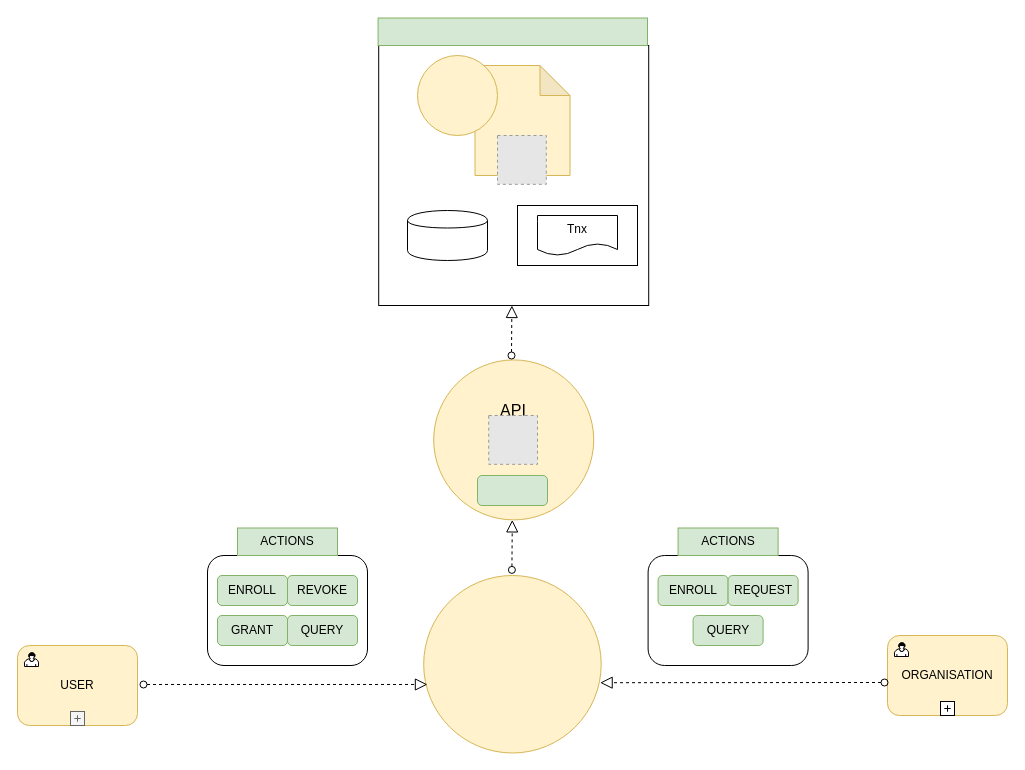
Some shapes in this 1025 by 770 pixel diagram are drawn without their labels. Grey dashed boxes stand in for pictures. Each missing label, with the box of its shape:
CLIENT APPLICATION (REACT): (423, 574, 601, 753)
GET PUT DELETE: (416, 54, 498, 136)
Hyperleder Fabric: (377, 17, 648, 46)
SDK: (476, 474, 548, 506)
SMART CONTARCT: (474, 64, 570, 176)
State: (406, 210, 488, 260)
